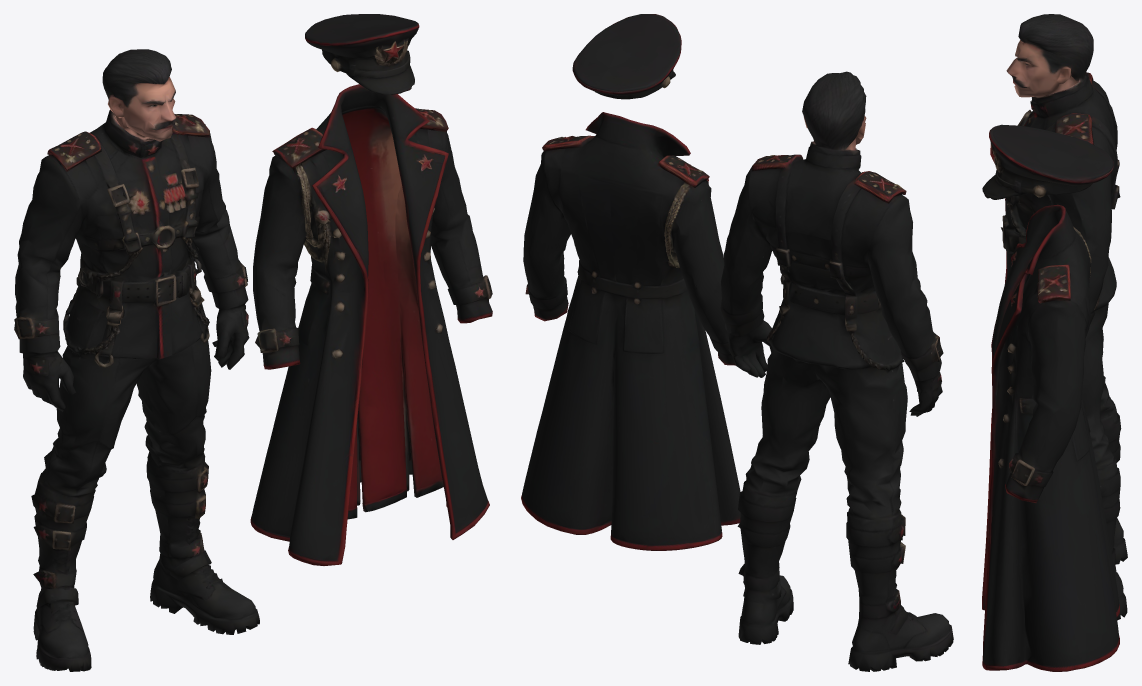
Rendered from stalin-parts.glb.
3 renders of one model, left to right at view 1: azimuth 30°, elevation 25°; view 2: azimuth 150°, elevation 25°; view 3: azimuth 270°, elevation 25°, orthographic. The views are drawn at different scales.
Parts seen in each view (by area): view 1: Body, Cape, Cap; view 2: Body, Cape, Cap; view 3: Cape, Body, Cap.
Boxes of the visible parts, x1,y1,x2,y2 form: Body: (14,49,340,671); Cape: (269,108,492,564); Cap: (305,14,448,155); Body: (638,71,953,671); Cape: (521,139,729,550); Cap: (542,14,690,187); Cape: (982,226,1119,671); Body: (1001,14,1127,620); Cap: (982,124,1113,310).
Size of the model in its own units: 0.7903 by 0.9791 by 0.2261.
1 material, 1 textured.
